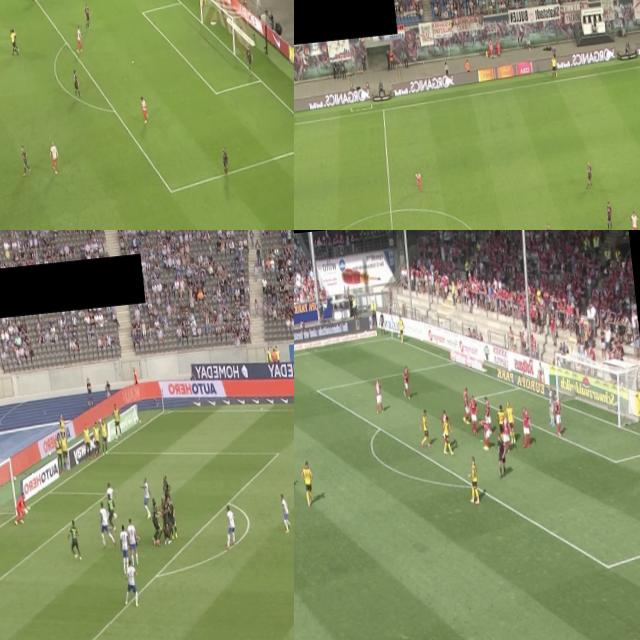ball: (394, 328, 400, 342)
player: (467, 450, 482, 509), (10, 490, 32, 528), (122, 560, 140, 604), (222, 503, 238, 552), (66, 513, 82, 560), (300, 457, 314, 510), (475, 414, 493, 454), (118, 522, 131, 575), (97, 502, 112, 547), (518, 403, 532, 448), (126, 518, 140, 562), (372, 376, 386, 420), (147, 495, 160, 542), (157, 498, 170, 544), (139, 475, 153, 516), (103, 492, 117, 532), (479, 393, 494, 430), (104, 482, 116, 526), (160, 472, 172, 516), (278, 488, 290, 531), (149, 500, 161, 542), (166, 494, 177, 538), (504, 400, 516, 440), (545, 384, 556, 426), (439, 406, 451, 443), (494, 402, 506, 438), (400, 365, 412, 400), (602, 196, 614, 230), (460, 386, 470, 426), (468, 394, 478, 434), (553, 395, 563, 435), (218, 144, 231, 172), (442, 416, 452, 452), (243, 44, 254, 76), (395, 314, 406, 346), (501, 416, 511, 450), (421, 407, 429, 449), (48, 140, 58, 172), (584, 158, 594, 190), (139, 95, 150, 124), (19, 144, 30, 173), (74, 26, 85, 54), (70, 67, 80, 94), (82, 2, 91, 30), (414, 168, 422, 192), (629, 211, 638, 230), (545, 221, 554, 230), (199, 0, 207, 5)
